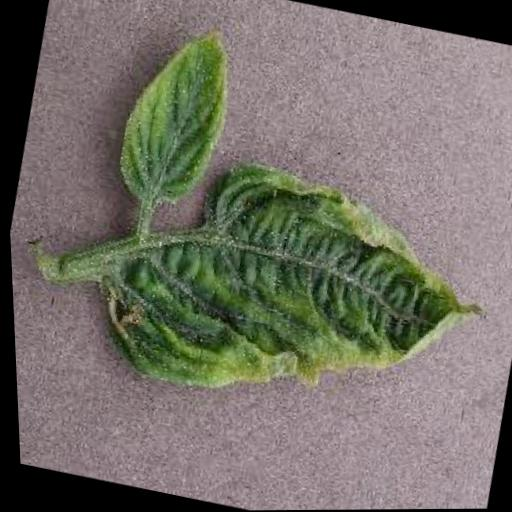Yellow Leaf Curl Virus: (78, 138, 507, 445), (104, 18, 249, 218)
